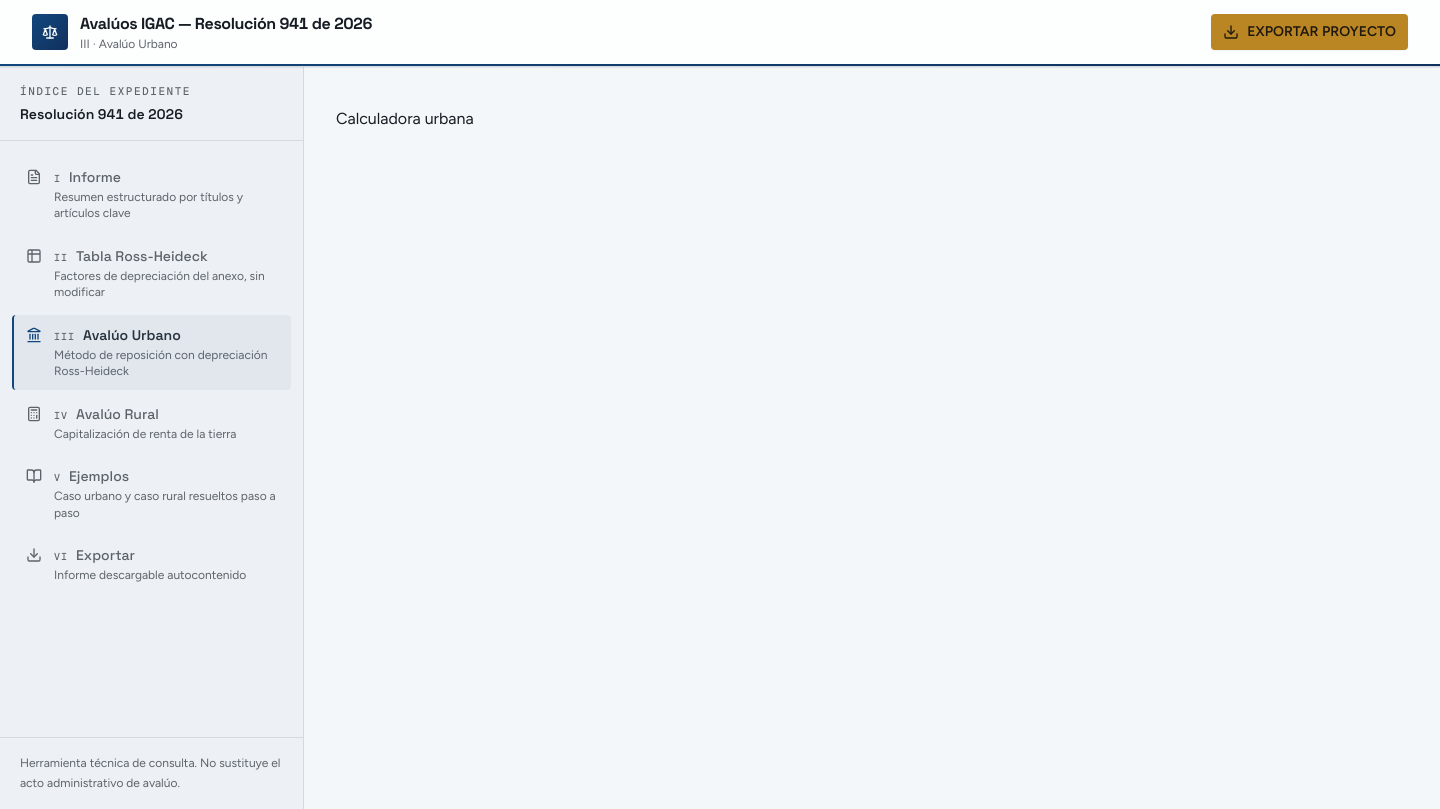
Scenario: AppShell › descarga el informe autocontenido desde una sección que no es Exportar
Step 1. Click the button with test id "app.export_button" → {"x": 1310, "y": 32}, box [1211,14,1408,50]
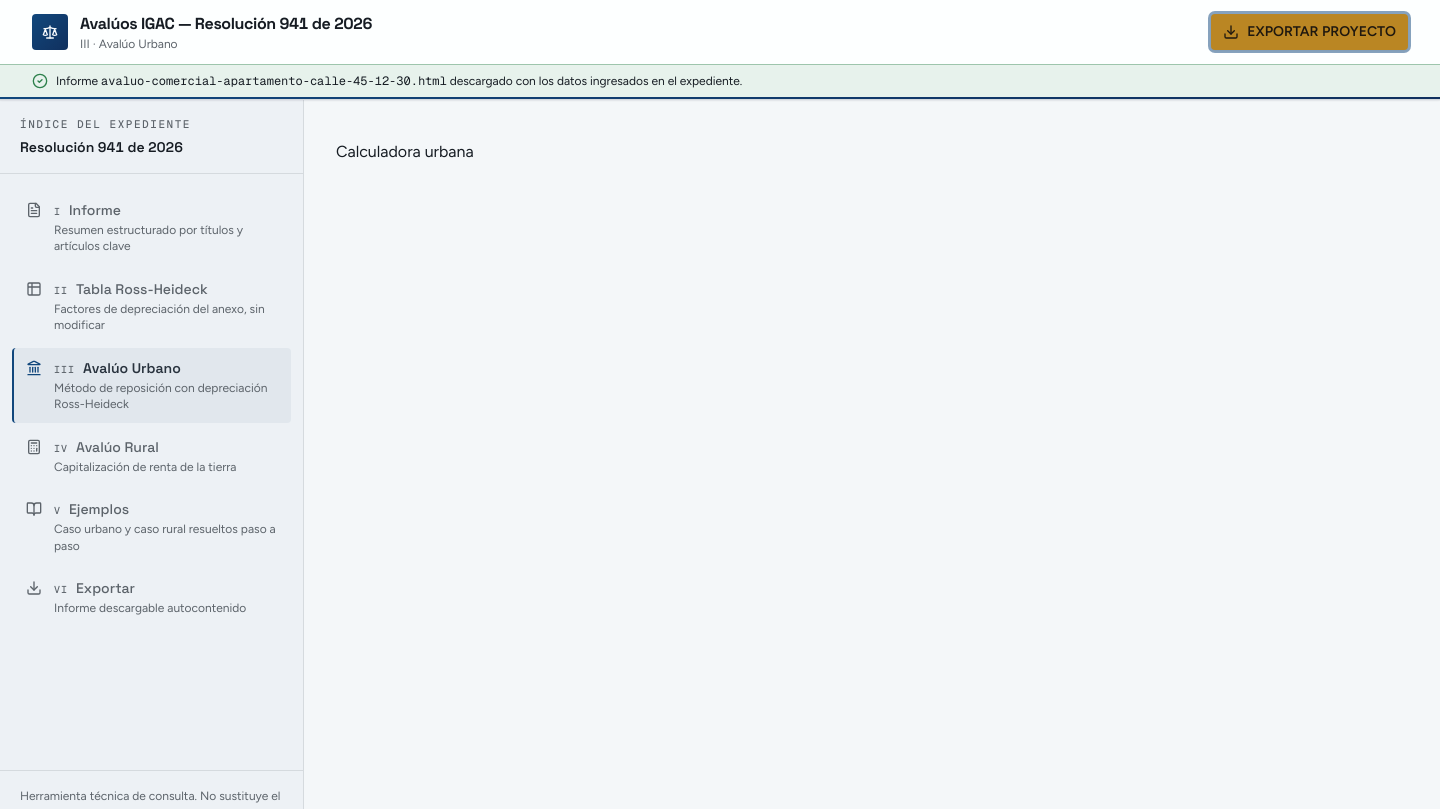
Now the element with test id "app.export_success_state" is shown, box [0,64,1439,97]
Now the text "avaluo-comercial-apartamento-calle-45-12-30.html" is shown, box [101,74,447,88]
